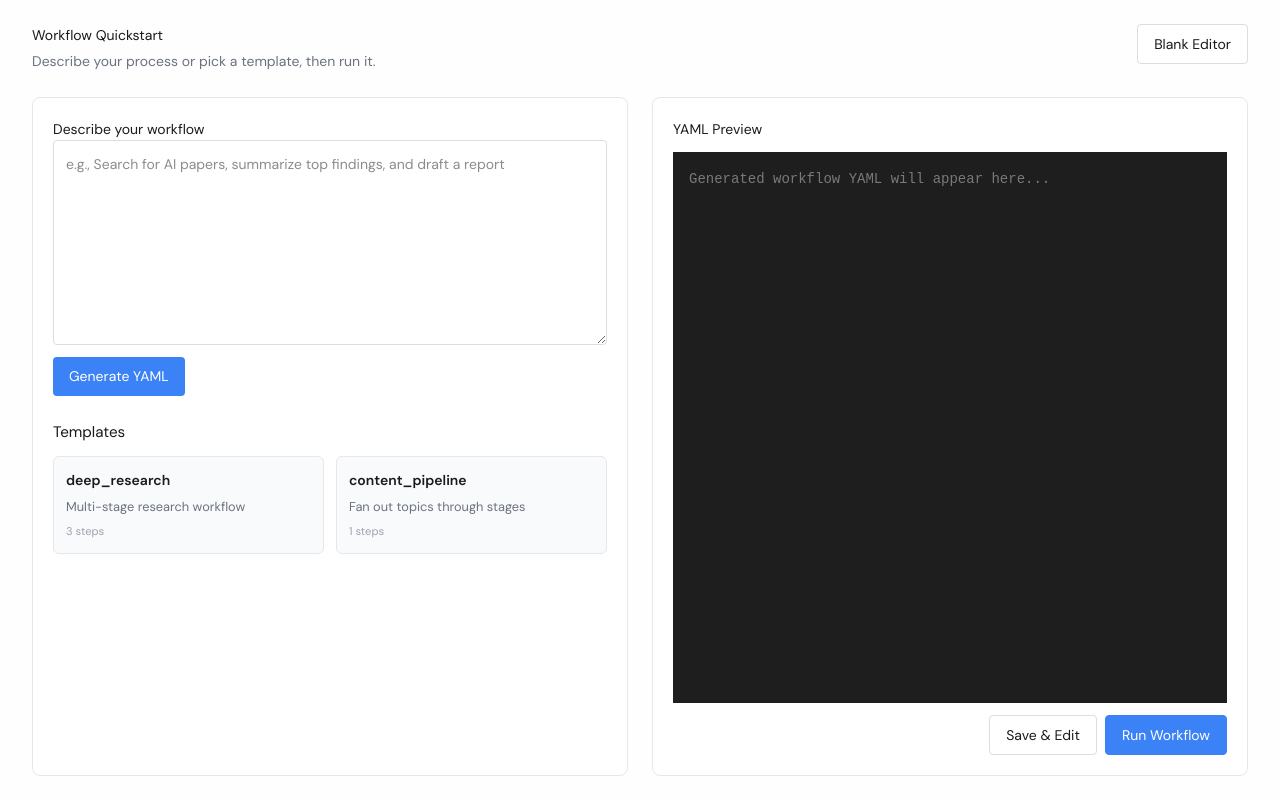
WorkflowQuickstart › loads YAML when a template card is selected
Expected: the text "deep_research" is shown, [66,469,170,491]
Step 1. Click the button "deep_research Multi-stage research workflow 3 steps" → (188, 505), box [53,456,324,554]
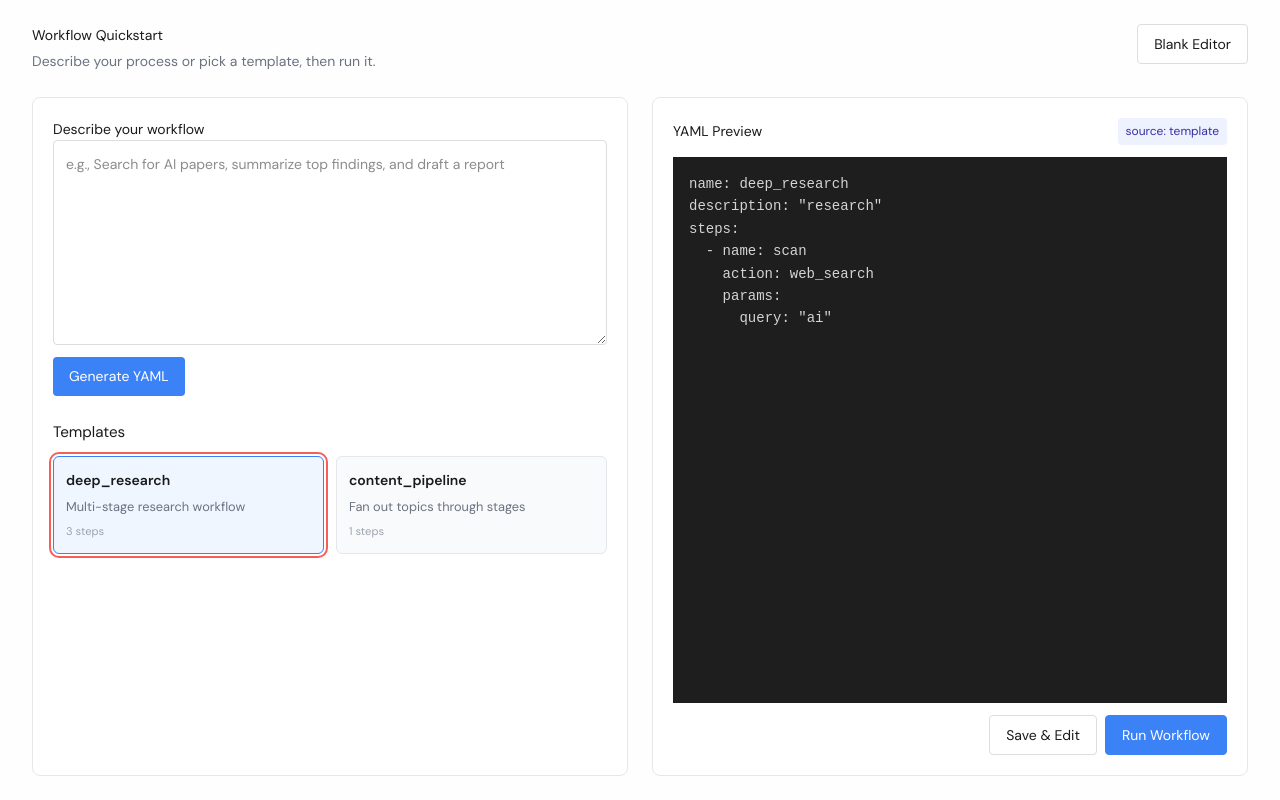
Now the text box showing "name: deep_research" is shown, box [673,157,1227,703]
Now the text "source: template" is shown, box [1118,118,1227,145]
